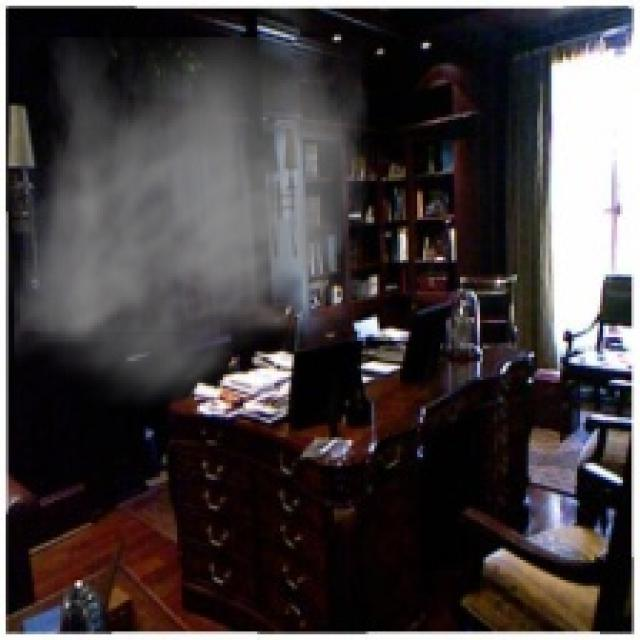smoke: (14, 37, 369, 417)
